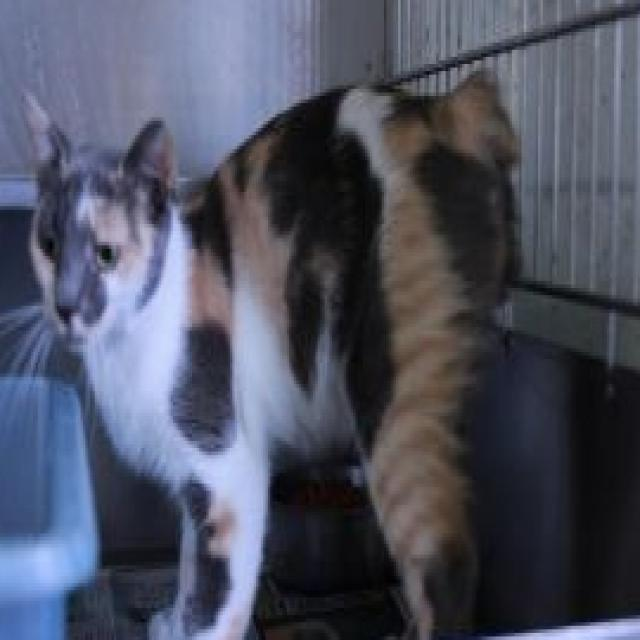American Bobtail: (14, 60, 524, 640)
